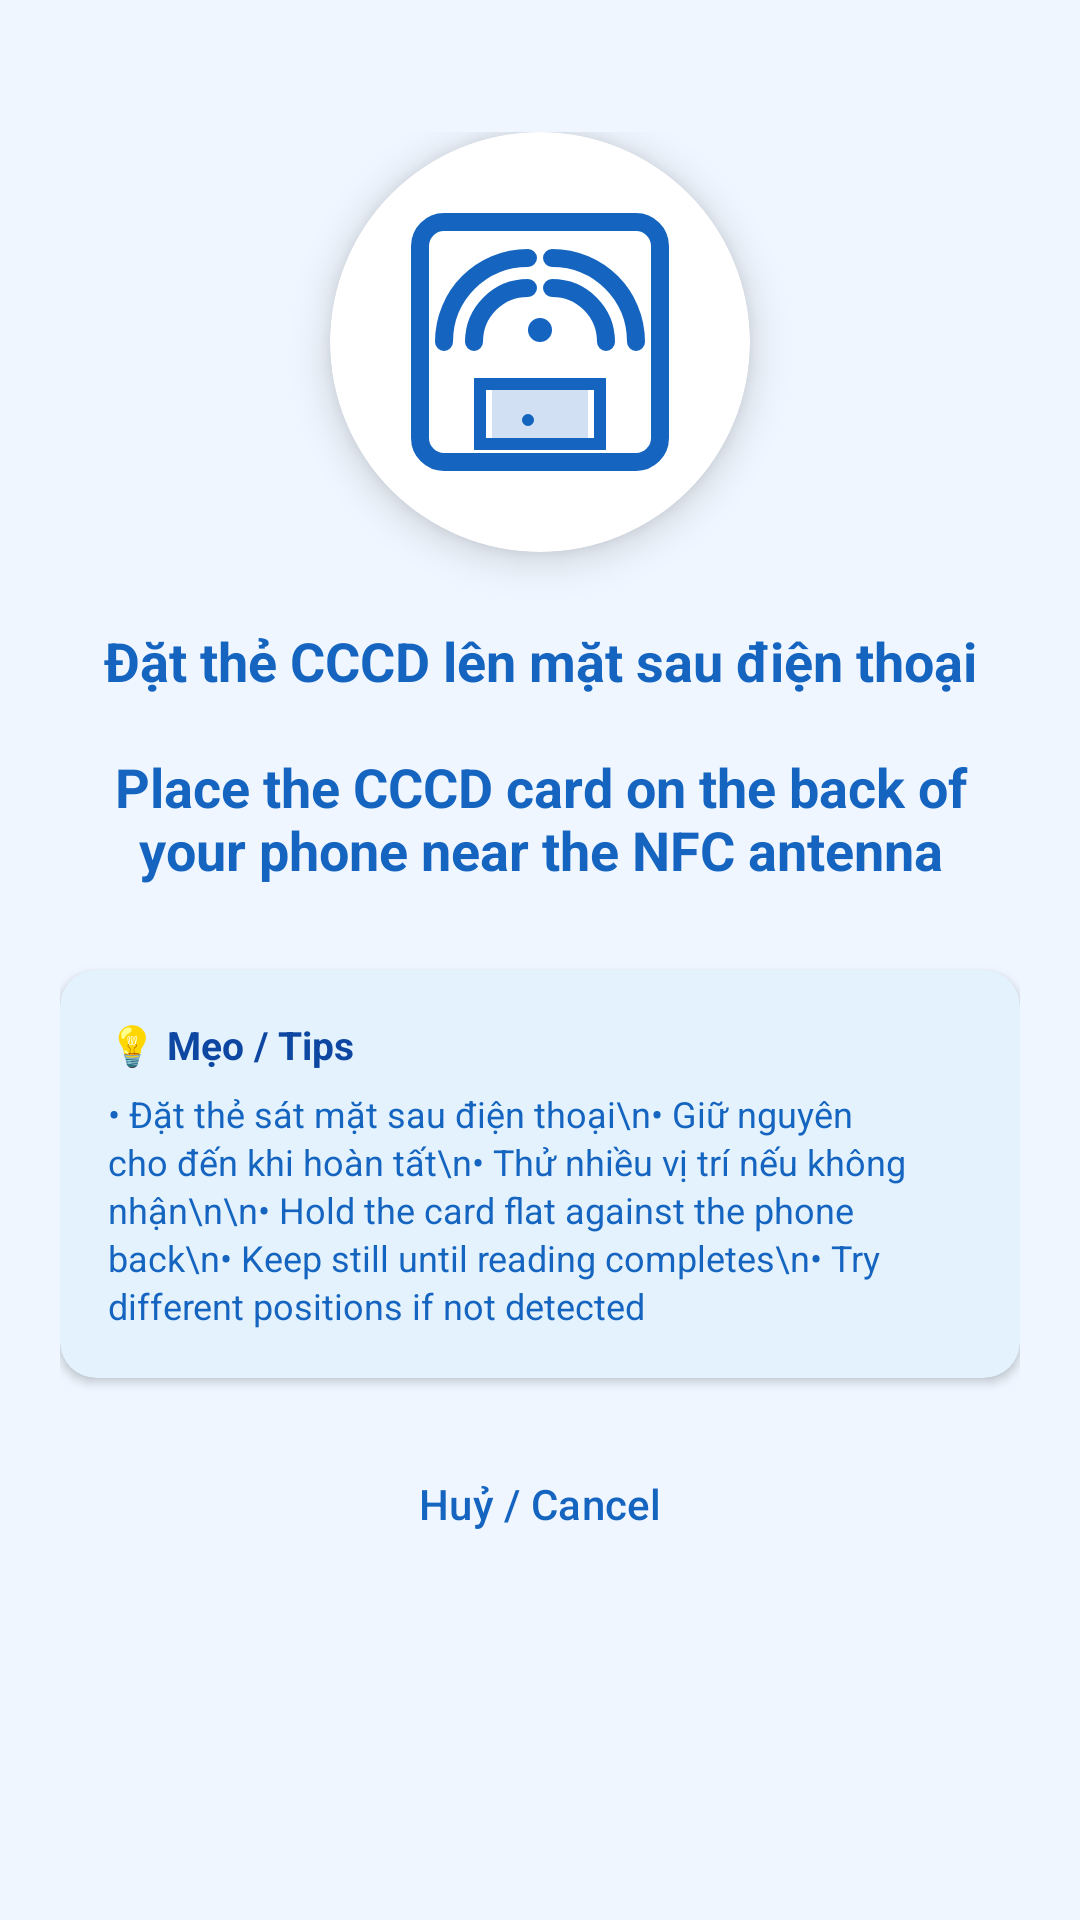

Named icons in this screenshot (1080×1920) and their bounding boxes, (x1,y1,x2,y2):
nfc scan: (411,213,669,471)
